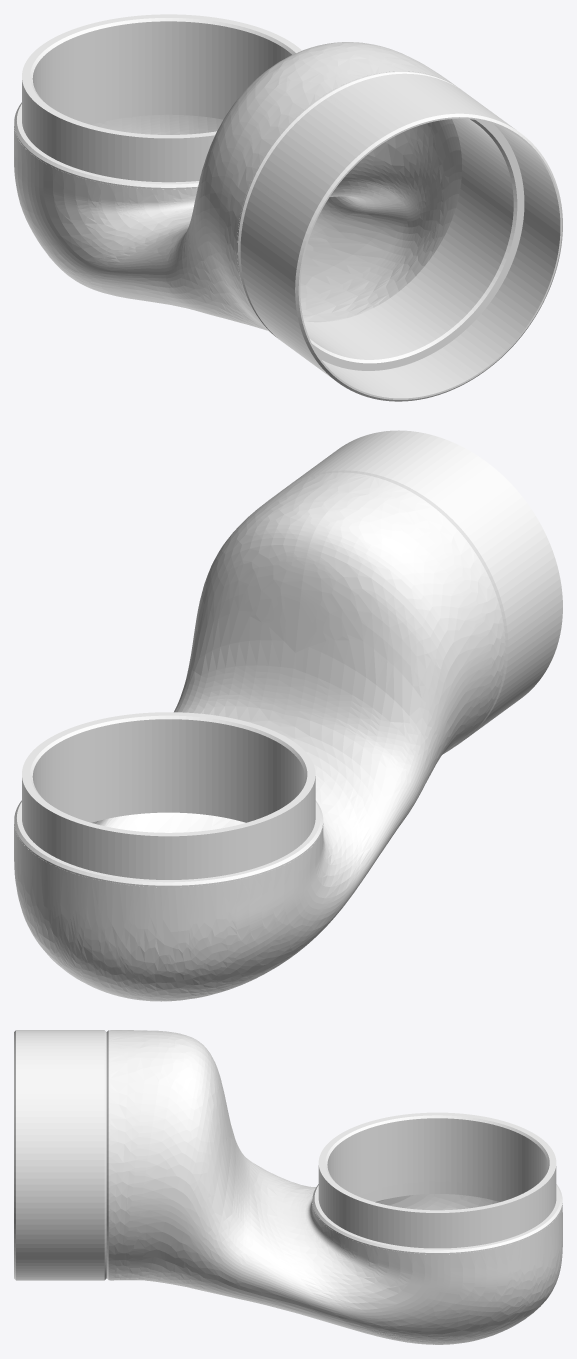
Rendered from Kinova7dof_wrist2.obj.
3 renders of one model, top to bottom at view 1: azimuth 30°, elevation 25°; view 2: azimuth 150°, elevation 25°; view 3: azimuth 270°, elevation 25°, orthographic. The views are drawn at different scales.
Parts seen in each view (by area): view 1: Kinova7dof_wrist2; view 2: Kinova7dof_wrist2; view 3: Kinova7dof_wrist2.
Boxes of the visible parts, x1,y1,x2,y2 form: Kinova7dof_wrist2: (14,14,562,401); Kinova7dof_wrist2: (14,430,562,1001); Kinova7dof_wrist2: (14,1030,562,1344).
Size of the model in its own units: 0.07 by 0.0882 by 0.1535.
Materials: 1 (1 with a texture image).
